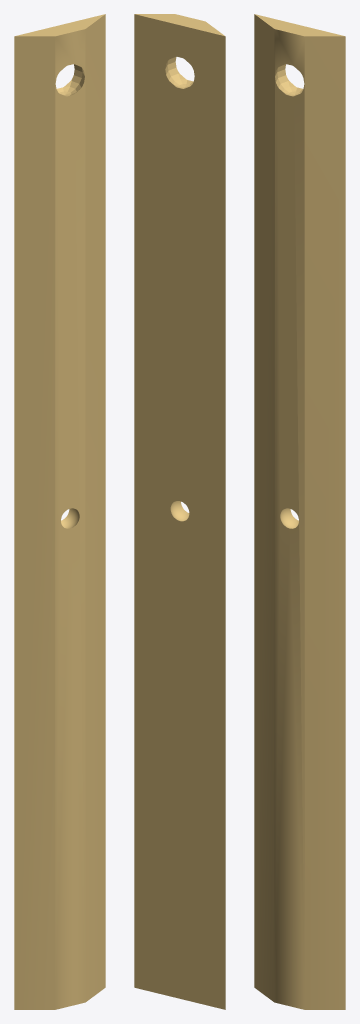
File: Ruler.fbx
3 views of the same model, side by side, from view 1: azimuth 30°, elevation 25°; view 2: azimuth 150°, elevation 25°; view 3: azimuth 330°, elevation 25° (orthographic).
Visible parts, largest first — view 1: pCube3; view 2: pCube3; view 3: pCube3.
Boxes of the visible parts, bbox=[...] form: pCube3: bbox=[14, 14, 105, 1009]; pCube3: bbox=[134, 14, 225, 1009]; pCube3: bbox=[254, 14, 345, 1009].
Size of the model in its own units: 0.8745 by 8.89 by 0.1711.
